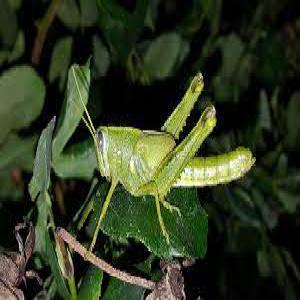locust: (76, 76, 262, 233)
